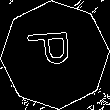P_E: (29, 35, 81, 75)
